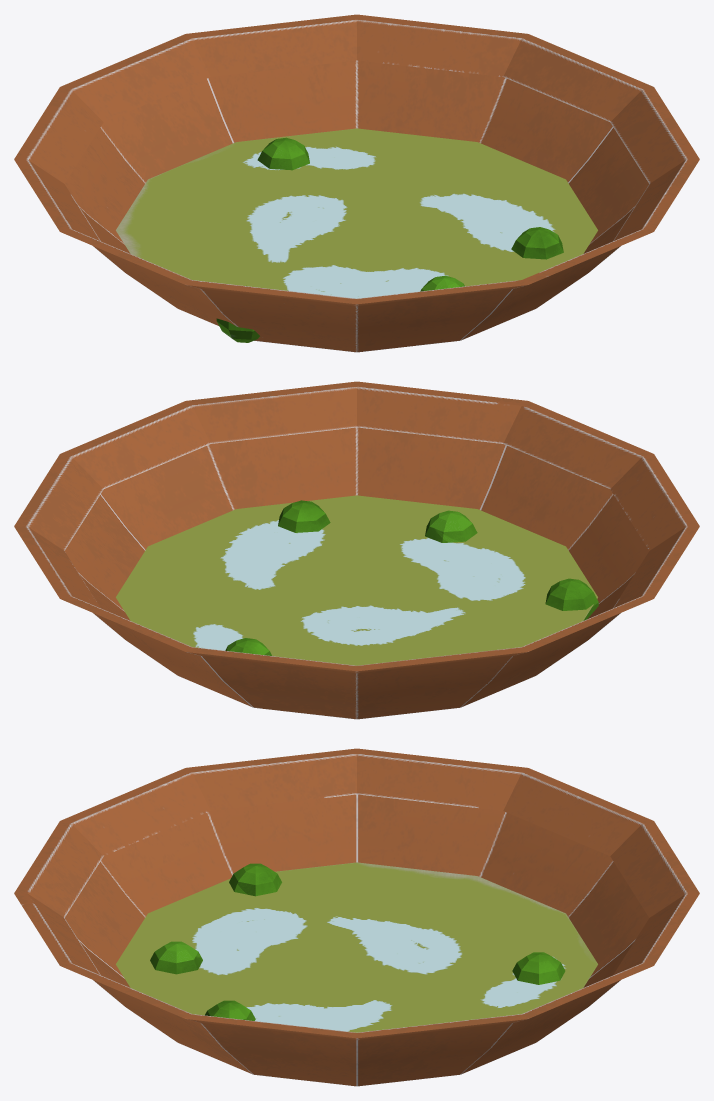
File: crema2.glb
3 renders of one model, top to bottom at view 1: azimuth 30°, elevation 25°; view 2: azimuth 150°, elevation 25°; view 3: azimuth 270°, elevation 25°, orthographic.
Parts seen in each view (by area): view 1: Plato3, polySurface42; view 2: Plato3, polySurface42; view 3: Plato3, polySurface42.
Boxes of the visible parts, x1,y1,x2,y2 form: Plato3: (14, 14, 699, 352); polySurface42: (216, 137, 563, 342); Plato3: (14, 381, 699, 719); polySurface42: (225, 500, 598, 655); Plato3: (14, 748, 699, 1086); polySurface42: (150, 863, 565, 1020).
Bounding box in the file's own units: 2.3 × 0.5109 × 2.3.
Materials: 3 (3 with a texture image).
